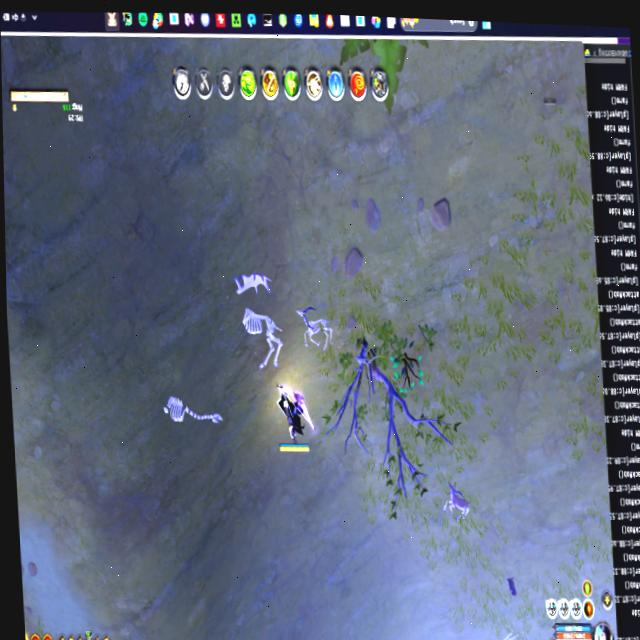mob: (440, 479, 473, 526)
red: (274, 382, 313, 455)
